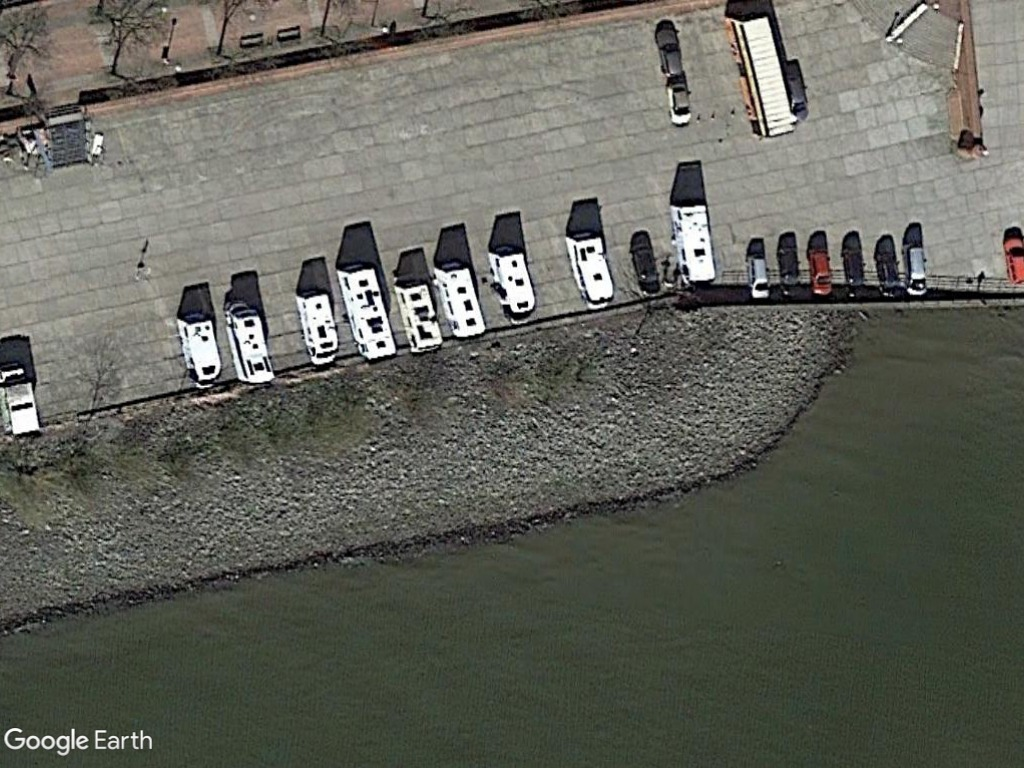bus: (721, 10, 797, 137)
car: (651, 22, 688, 80), (899, 237, 930, 300), (744, 250, 774, 303), (663, 77, 692, 127)
